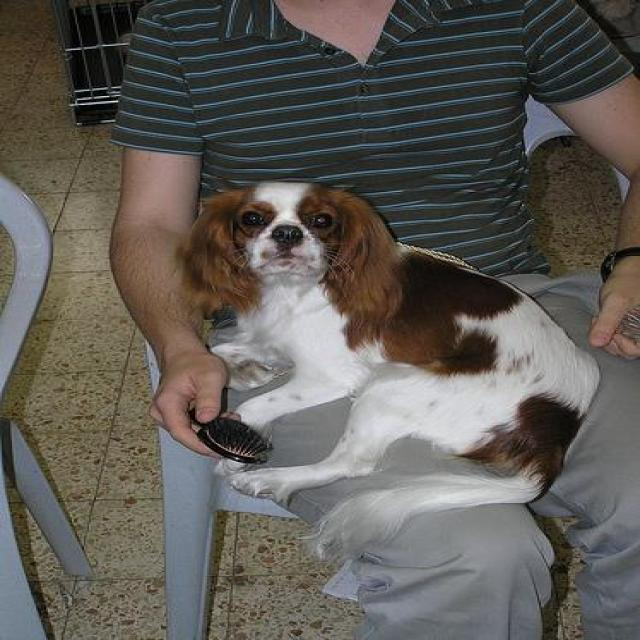blenheim_spaniel: (172, 176, 600, 564)
